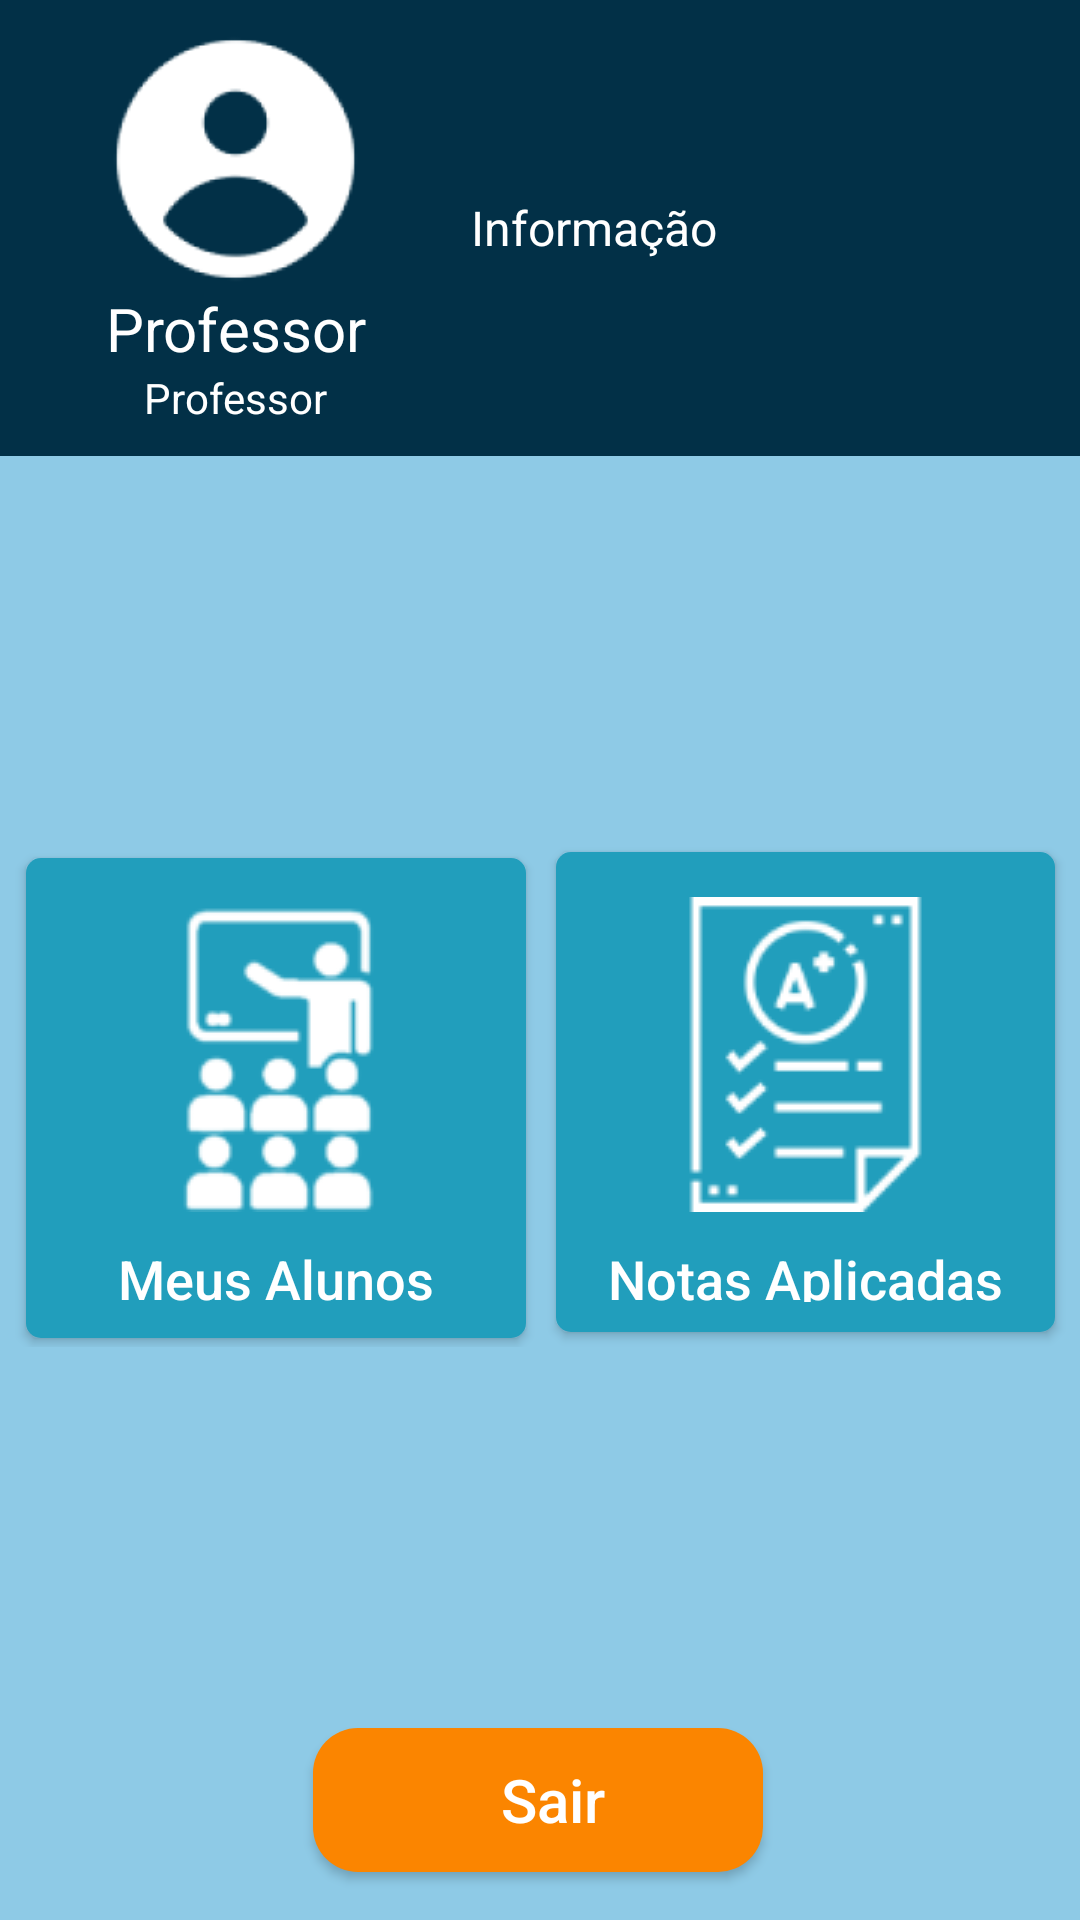

Locate icon controls on the screen. Image size 1080w x 1920h, boxes as rect(x1, y1, x2, y2).
perfil: rect(116, 40, 355, 278)
